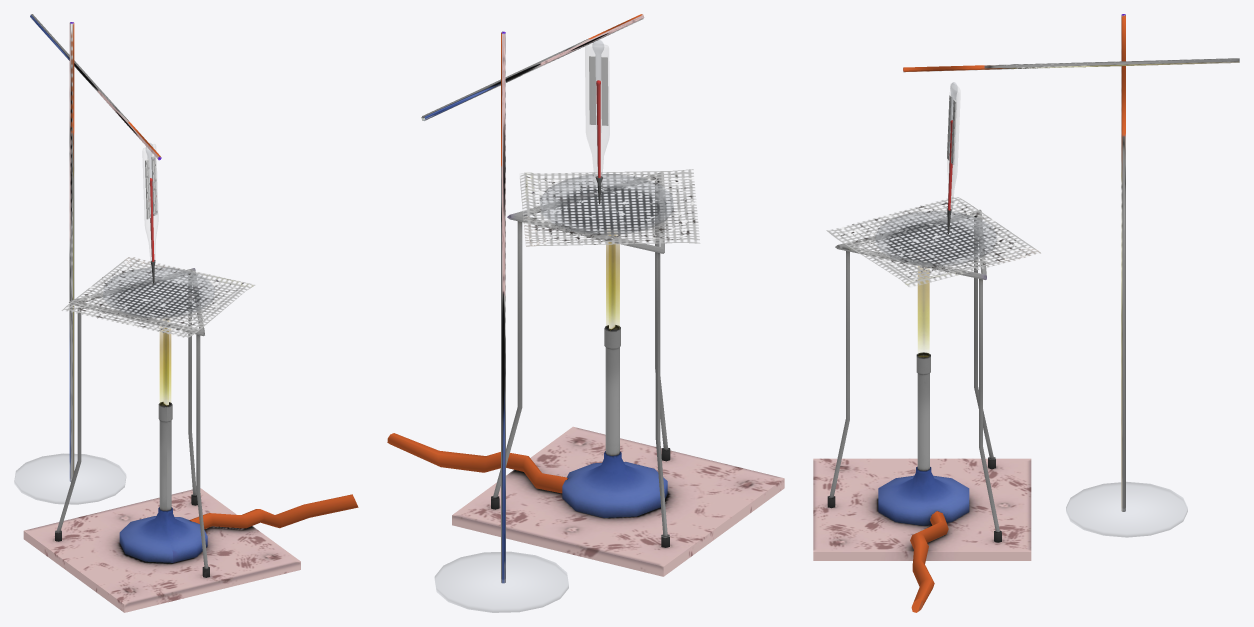
Rendered from bunsen.glb.
3 renders of one model, left to right at view 1: azimuth 30°, elevation 25°; view 2: azimuth 150°, elevation 25°; view 3: azimuth 270°, elevation 25°, orthographic. The views are drawn at different scales.
Parts seen in each view (by area): view 1: heat_mat, tripod_with_wire_gauze, lit_bunsen_burner, Watchglass, Standbase, Stand, Holder, Cylinder_0.001; view 2: heat_mat, tripod_with_wire_gauze, lit_bunsen_burner, Watchglass, Standbase, Stand, Cylinder_0.001, Holder, Sphere_0.001; view 3: heat_mat, tripod_with_wire_gauze, lit_bunsen_burner, Watchglass, Standbase, Stand, Holder, Cylinder_0.001.
Boxes of the visible parts, <box> form: heat_mat: <box>23,488,300,612</box>; tripod_with_wire_gauze: <box>55,257,255,577</box>; lit_bunsen_burner: <box>119,319,358,562</box>; Watchglass: <box>103,267,214,317</box>; Standbase: <box>14,453,125,504</box>; Stand: <box>69,22,74,481</box>; Holder: <box>30,14,161,160</box>; Cylinder_0.001: <box>142,144,158,267</box>; heat_mat: <box>452,426,784,576</box>; tripod_with_wire_gauze: <box>491,169,700,547</box>; lit_bunsen_burner: <box>387,229,667,517</box>; Watchglass: <box>540,174,673,234</box>; Standbase: <box>435,552,568,612</box>; Stand: <box>501,31,505,583</box>; Cylinder_0.001: <box>585,44,609,185</box>; Holder: <box>421,14,644,120</box>; Sphere_0.001: <box>592,40,603,177</box>; heat_mat: <box>813,458,1031,560</box>; tripod_with_wire_gauze: <box>826,197,1040,542</box>; lit_bunsen_burner: <box>878,266,969,612</box>; Watchglass: <box>875,211,996,266</box>; Standbase: <box>1066,482,1187,537</box>; Stand: <box>1121,14,1125,511</box>; Holder: <box>903,58,1239,72</box>; Cylinder_0.001: <box>947,84,960,217</box>.
Size of the model in its own units: 149 by 235 by 181.
Materials: 7 (2 with a texture image).
